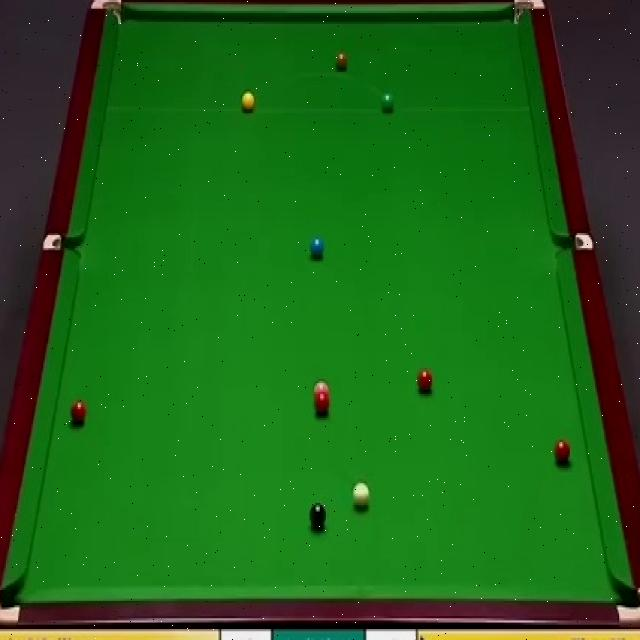black-ball: (308, 502, 328, 528)
blue-ball: (310, 238, 323, 260)
brown-ball: (333, 52, 349, 72)
green-ball: (380, 90, 394, 113)
pink-ball: (313, 381, 326, 402)
red-ball: (553, 438, 570, 467), (68, 402, 86, 426), (416, 369, 433, 393), (315, 397, 329, 420)
white-ball: (350, 480, 371, 512)
yellow-ball: (240, 91, 255, 113)
